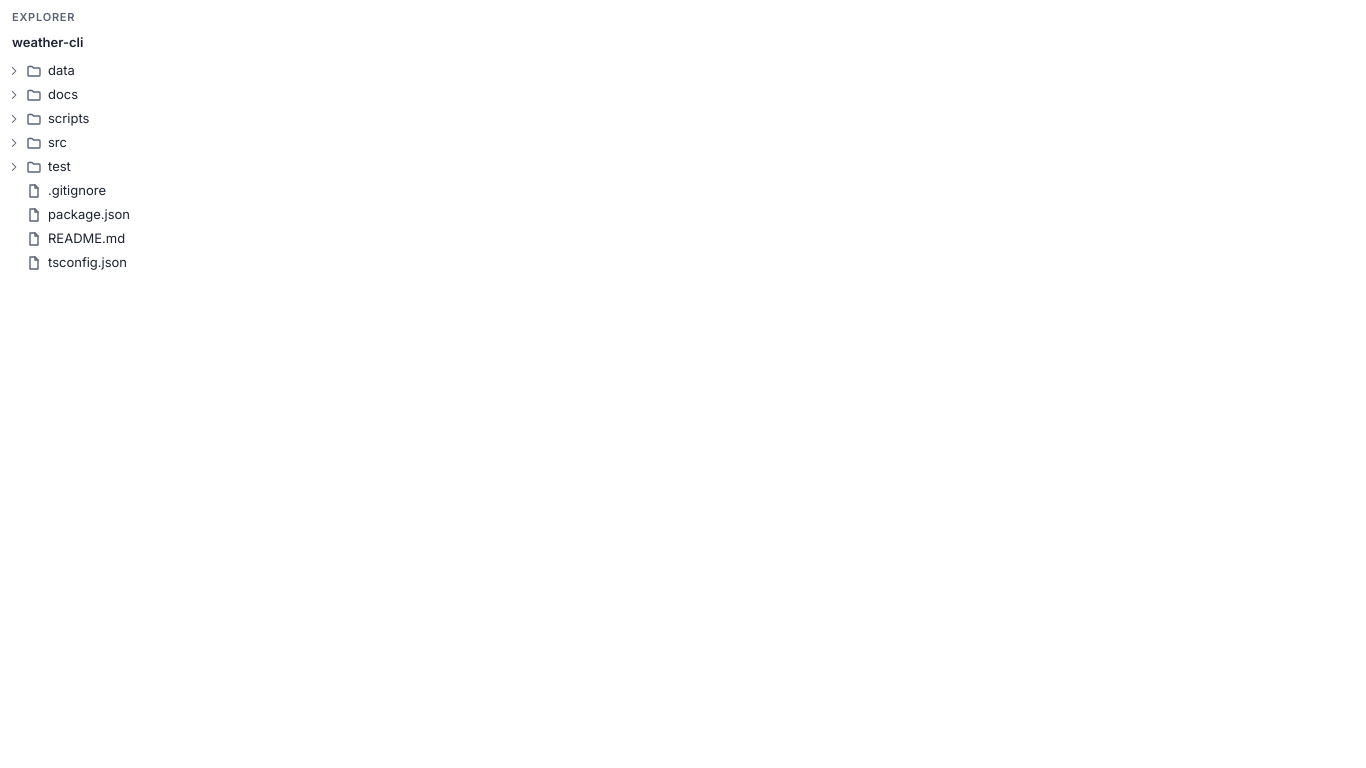
Test: ExplorerContextMenu › Delete asks for confirmation; Cancel keeps the file
Right-click the button with test id "tree-row-package.json" at (89, 214), box [0,203,1365,227]
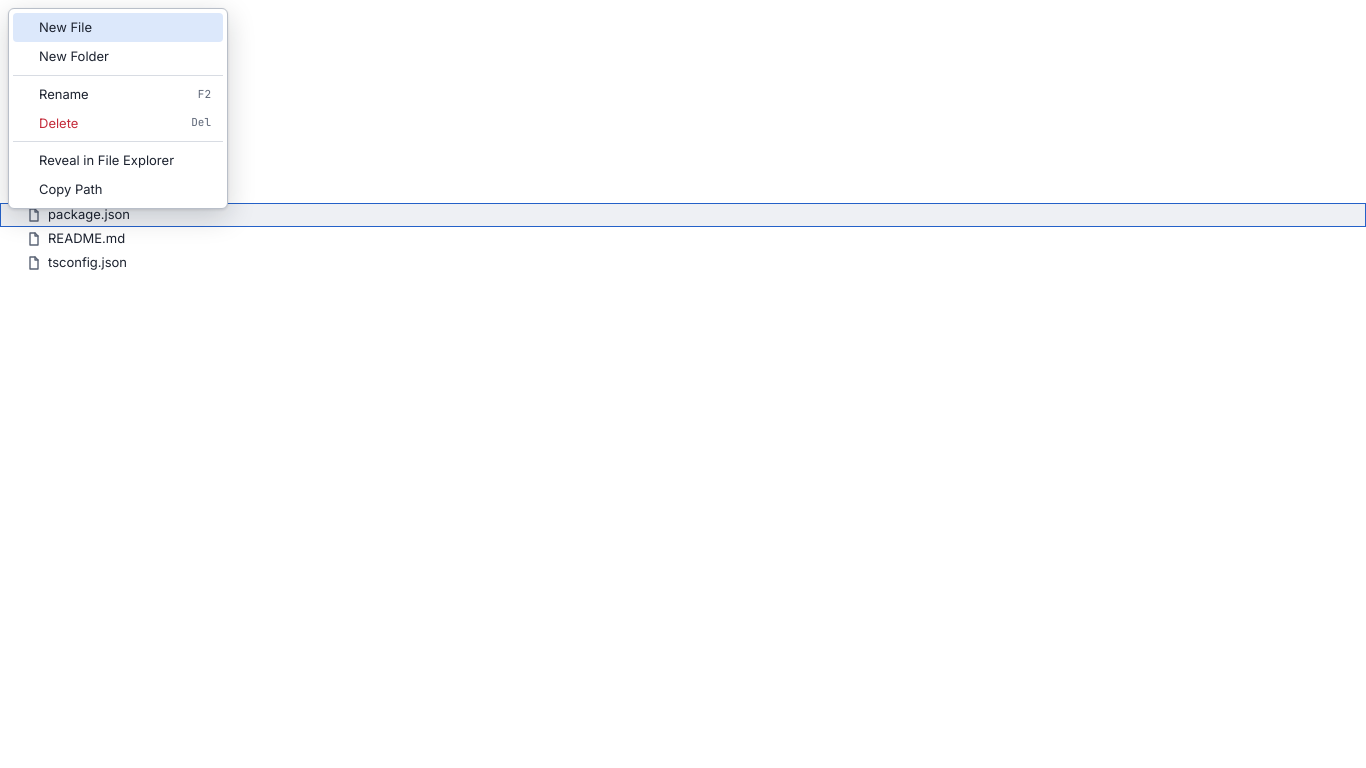
Click the menu item with test id "ctx-delete". click: click(118, 123)
box: [13,108,223,137]
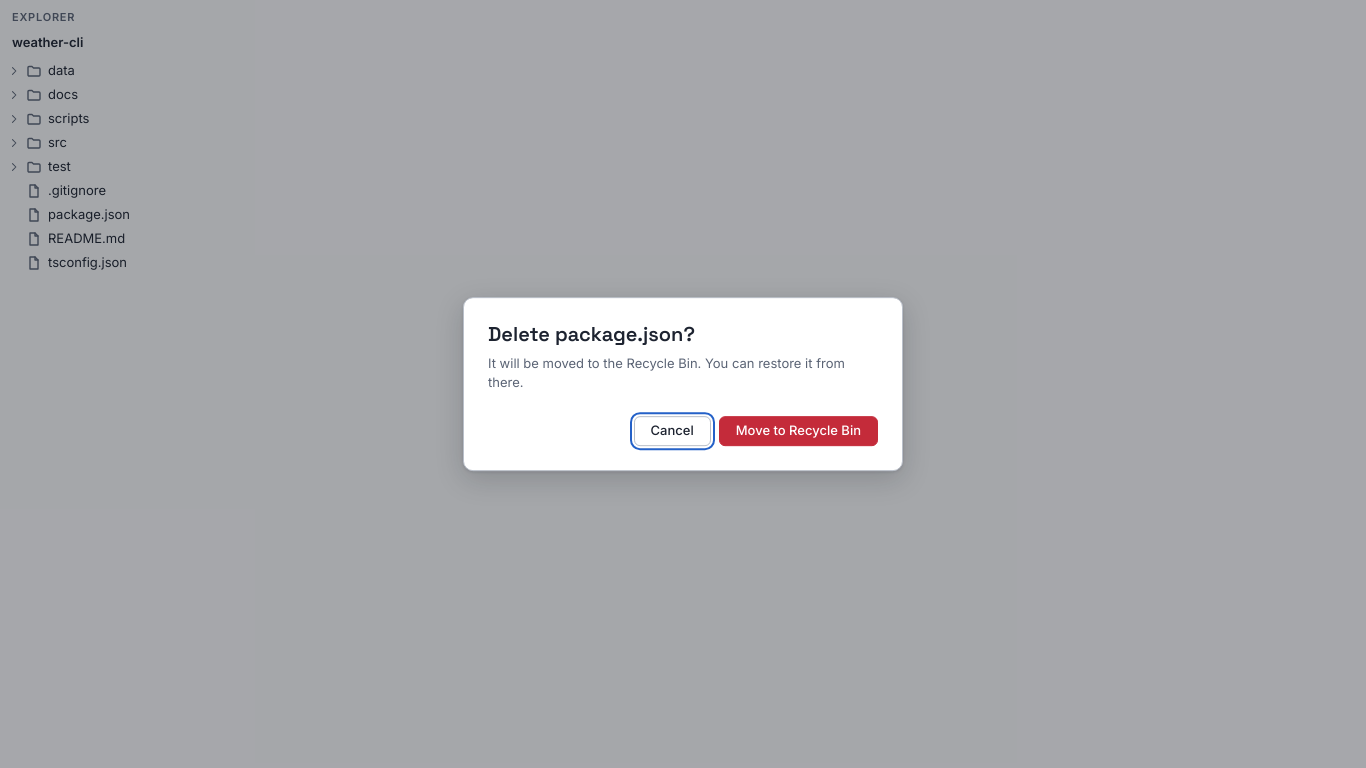
Expected: the dialog shows "Delete package.json?", [488,321,695,347]
Expected: the dialog shows "Recycle Bin", [488,355,845,390]
Click the button with test id "delete-cancel". click: click(672, 431)
box: [634,416,711,446]
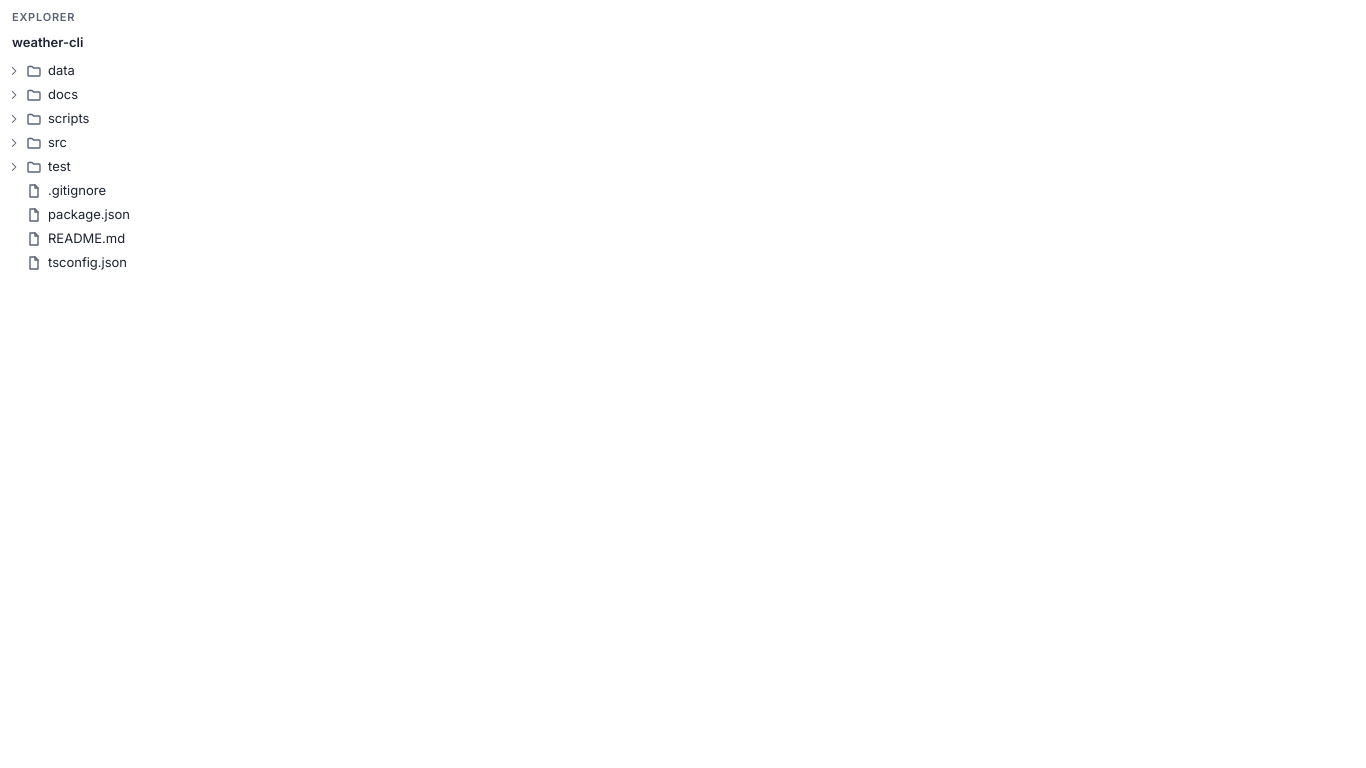
Expected: the dialog is gone
